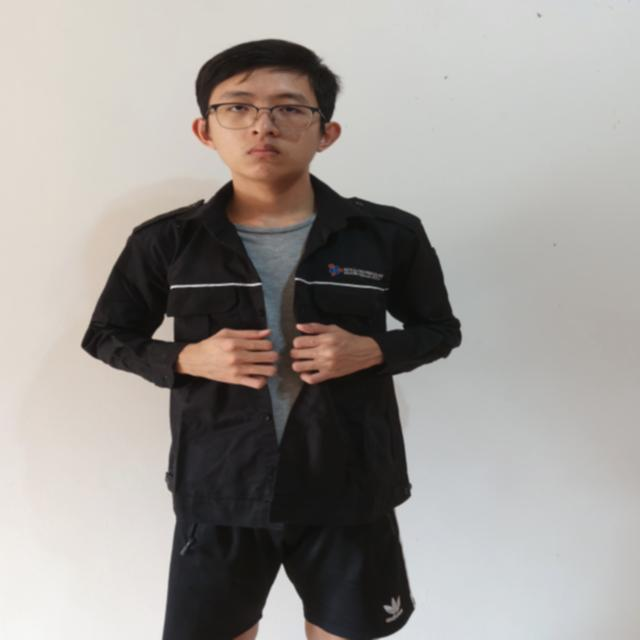person_with_labcoat: (82, 40, 461, 640)
